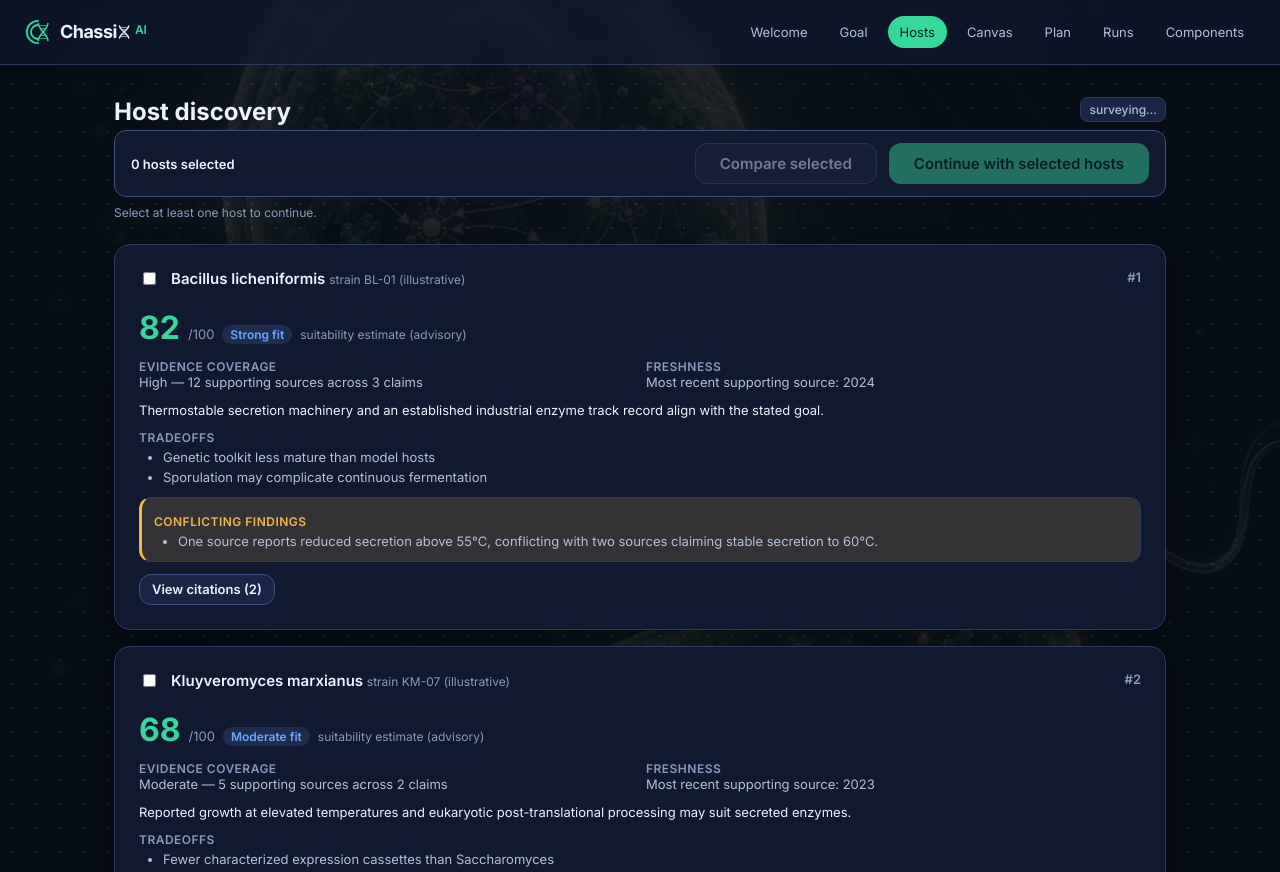
it: HostDiscoveryPage (Step 2.3, Screen 2 / BF-02) › disables Continue with 0 hosts selected and enables it after selecting at least one
expect the button "Continue with selected hosts" is disabled: met, box [889, 143, 1149, 184]
expect the text with test id "selection-count" reads "0 hosts selected": met, box [131, 156, 234, 172]
Click the checkbox labelled "Bacillus licheniformis strain BL-01 (illustrative)": [150, 278] box [143, 272, 156, 285]
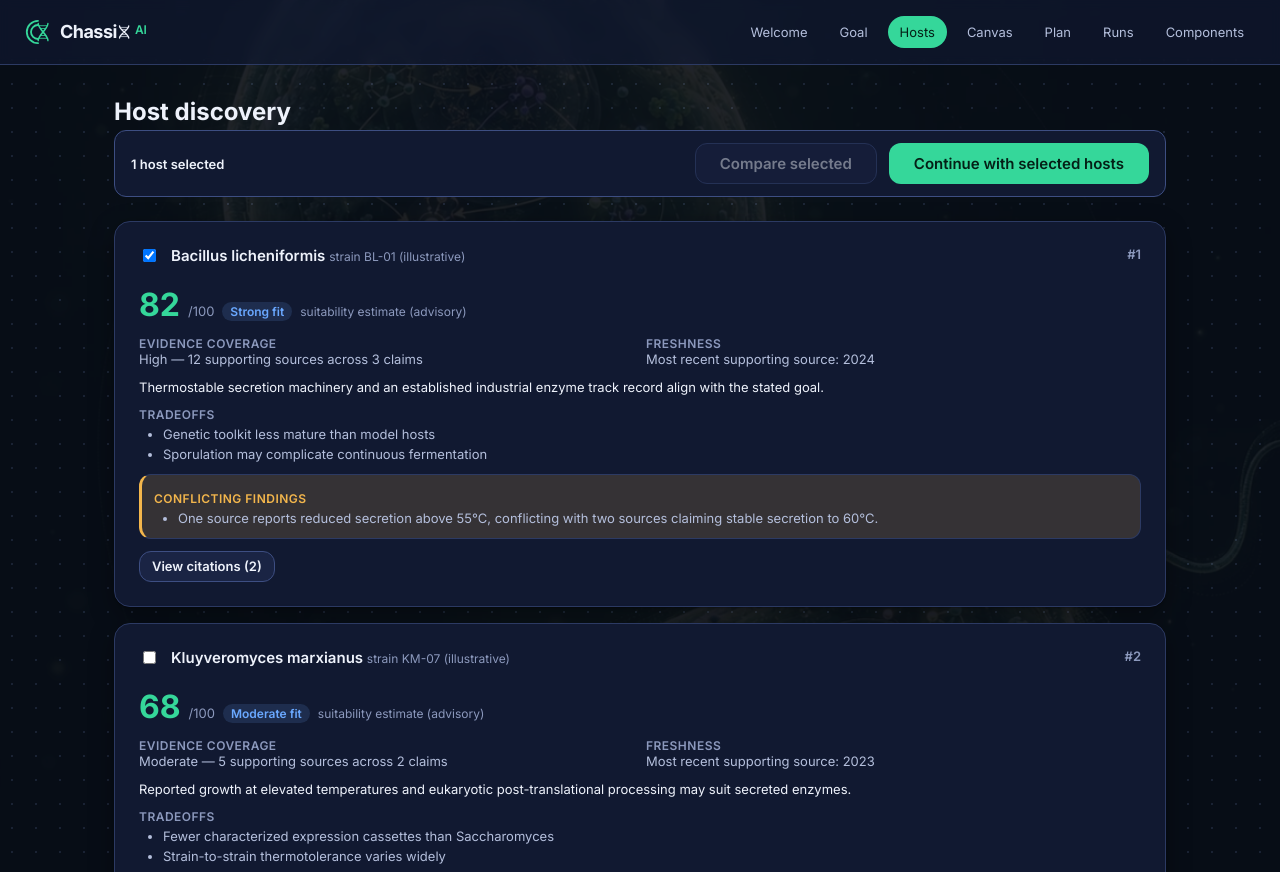
expect the button "Continue with selected hosts" is enabled: met, box [889, 143, 1149, 184]
expect the text with test id "selection-count" reads "1 host selected": met, box [131, 156, 224, 172]
